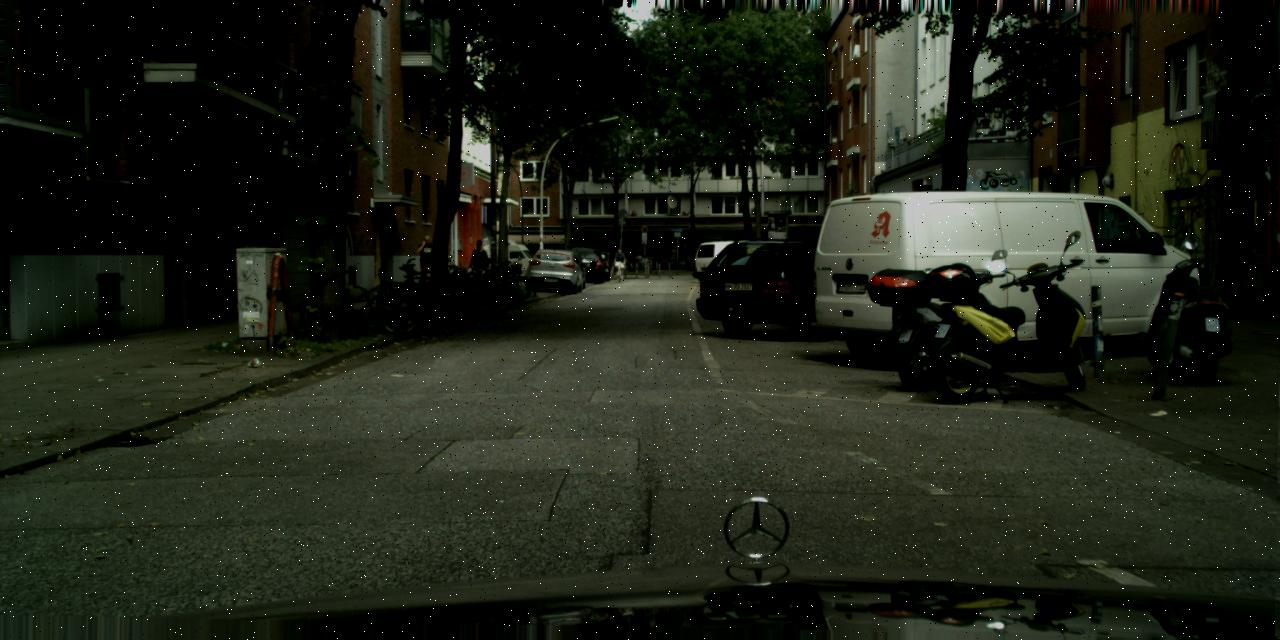ped: (414, 235, 437, 292), (467, 239, 489, 293), (612, 248, 624, 278), (604, 251, 614, 276), (632, 251, 640, 271)
